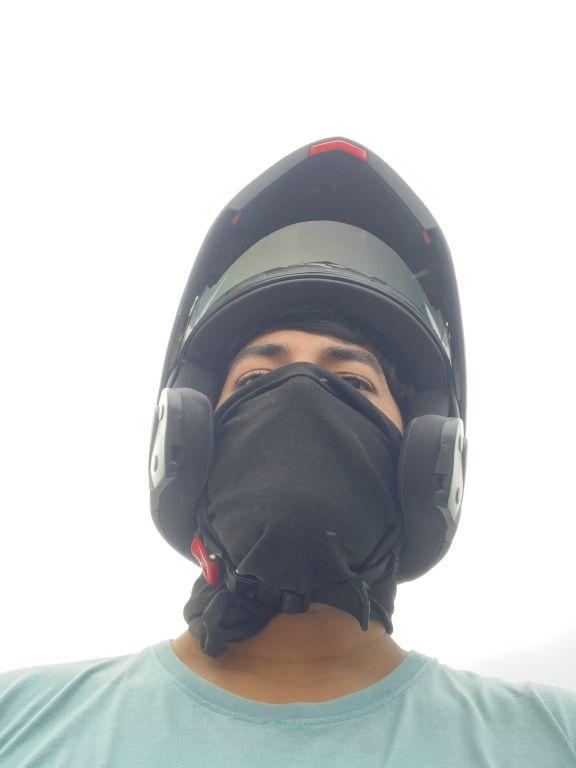helmet: (129, 120, 477, 614)
